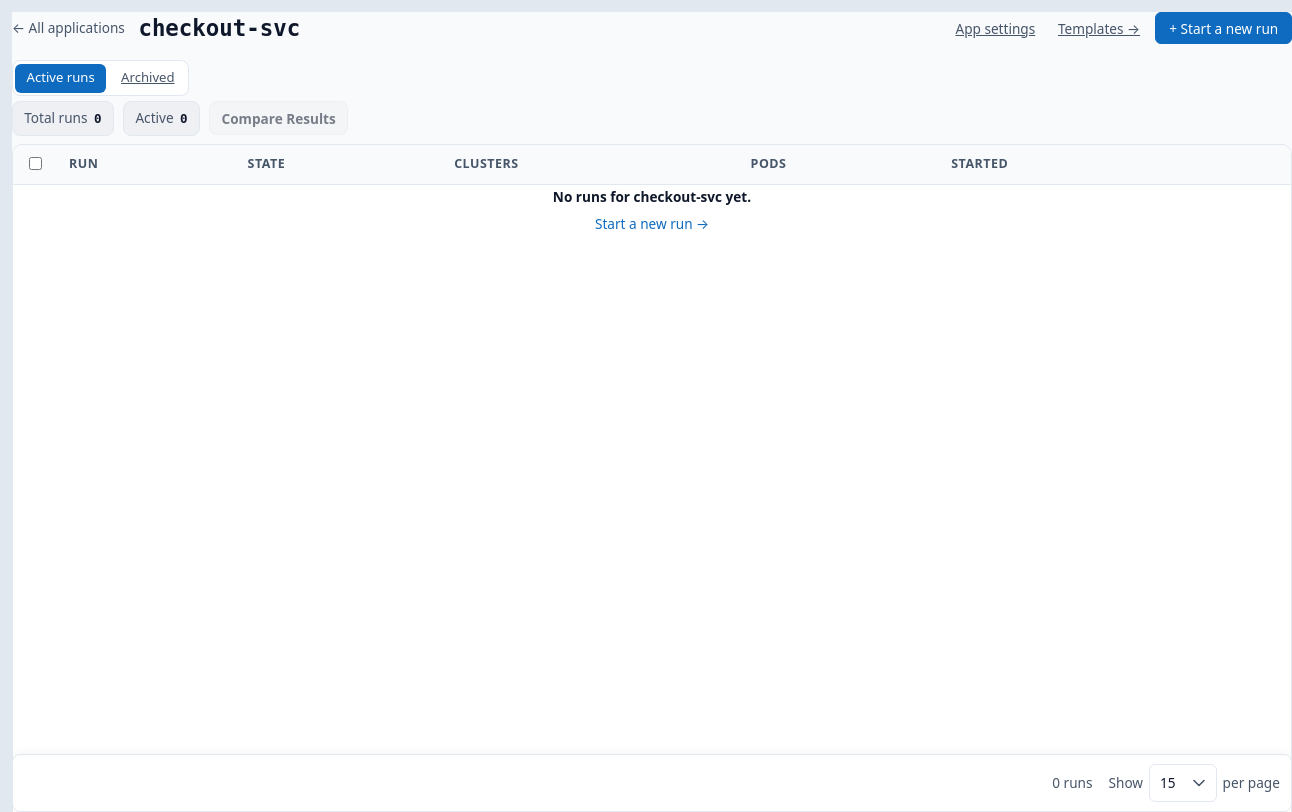
Test: ApplicationDetailPage › the Archived view drops the per-row Archive and says what empty means there
Expected: the text "No runs for checkout-svc yet." is shown, [553,187,751,206]
Click the tab "Archived": point(148, 78) [110,64,186,93]
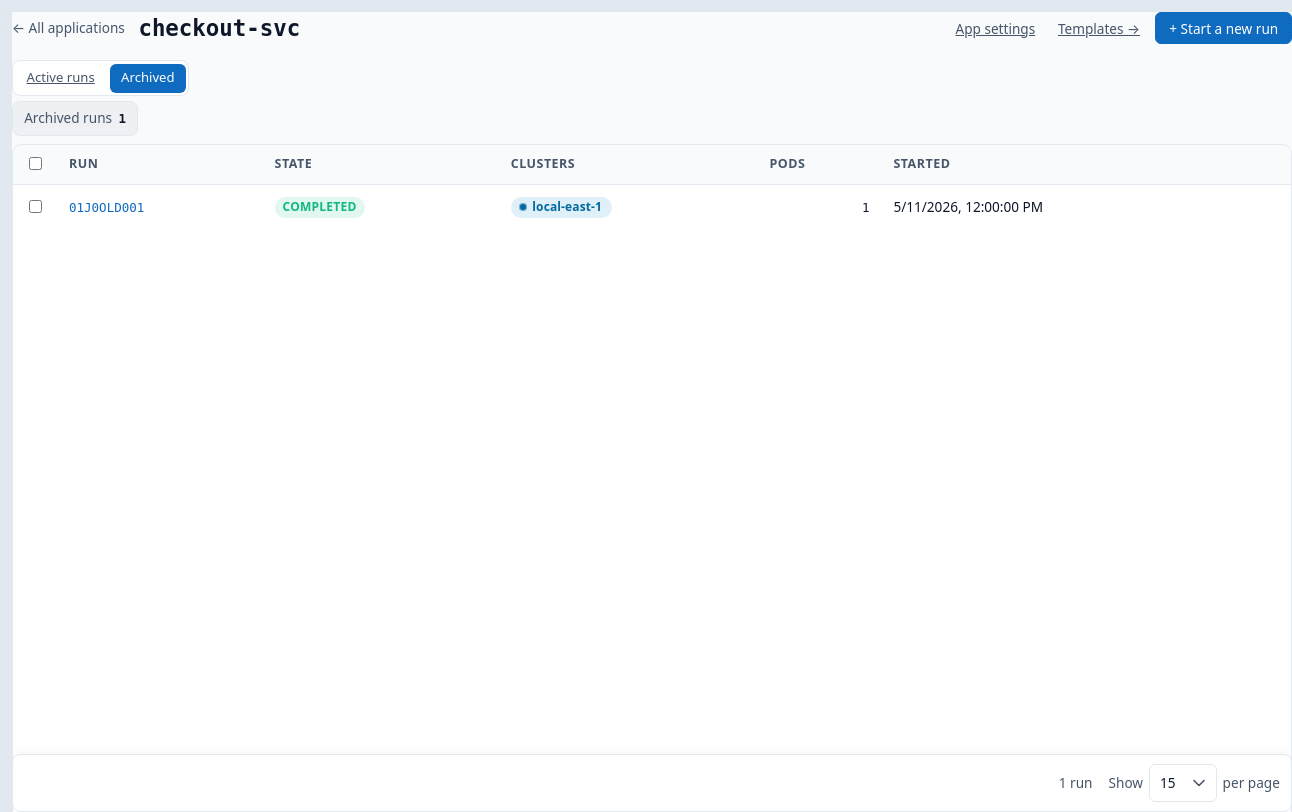
Now the link "01J0OLD001" is shown, box [69,200,144,215]
Click the tab "Active runs": point(61, 78) [15,64,106,93]
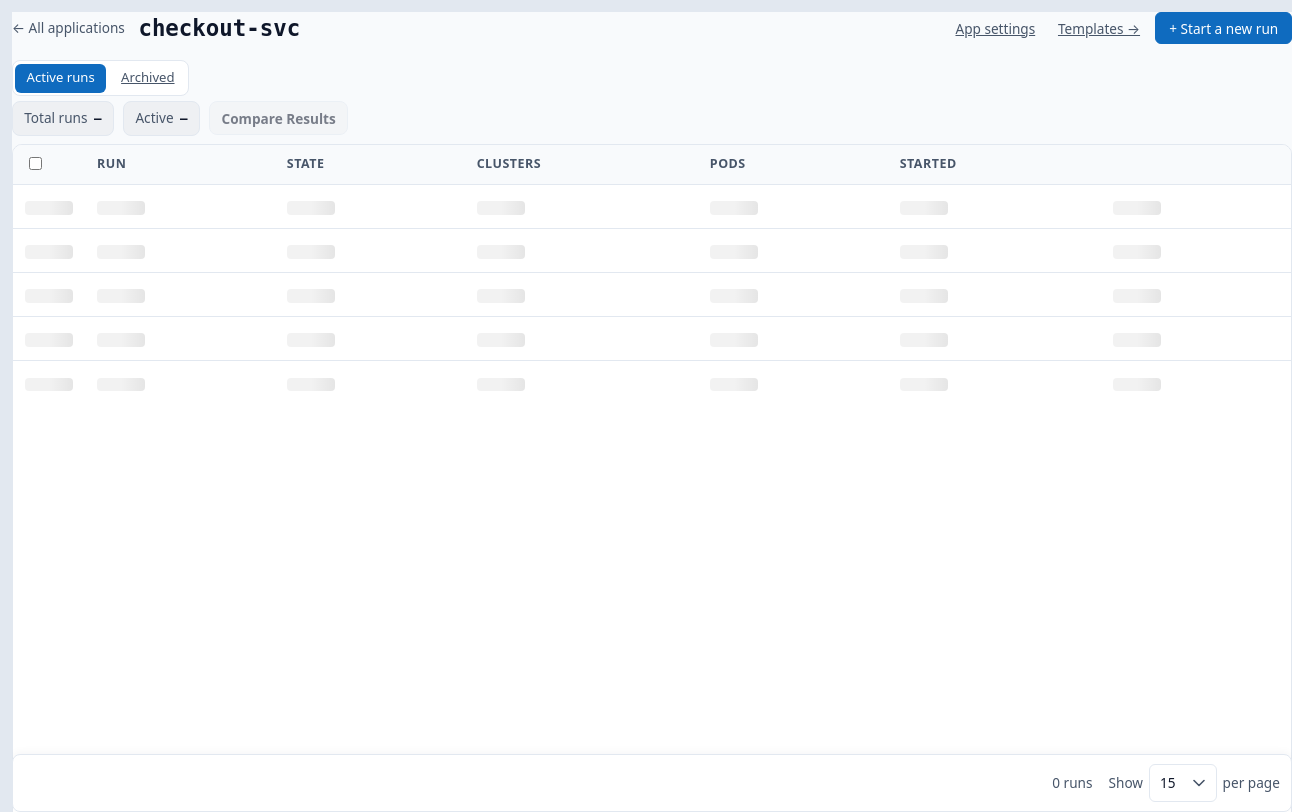
Click the tab "Archived": point(148, 78) [110,64,186,93]
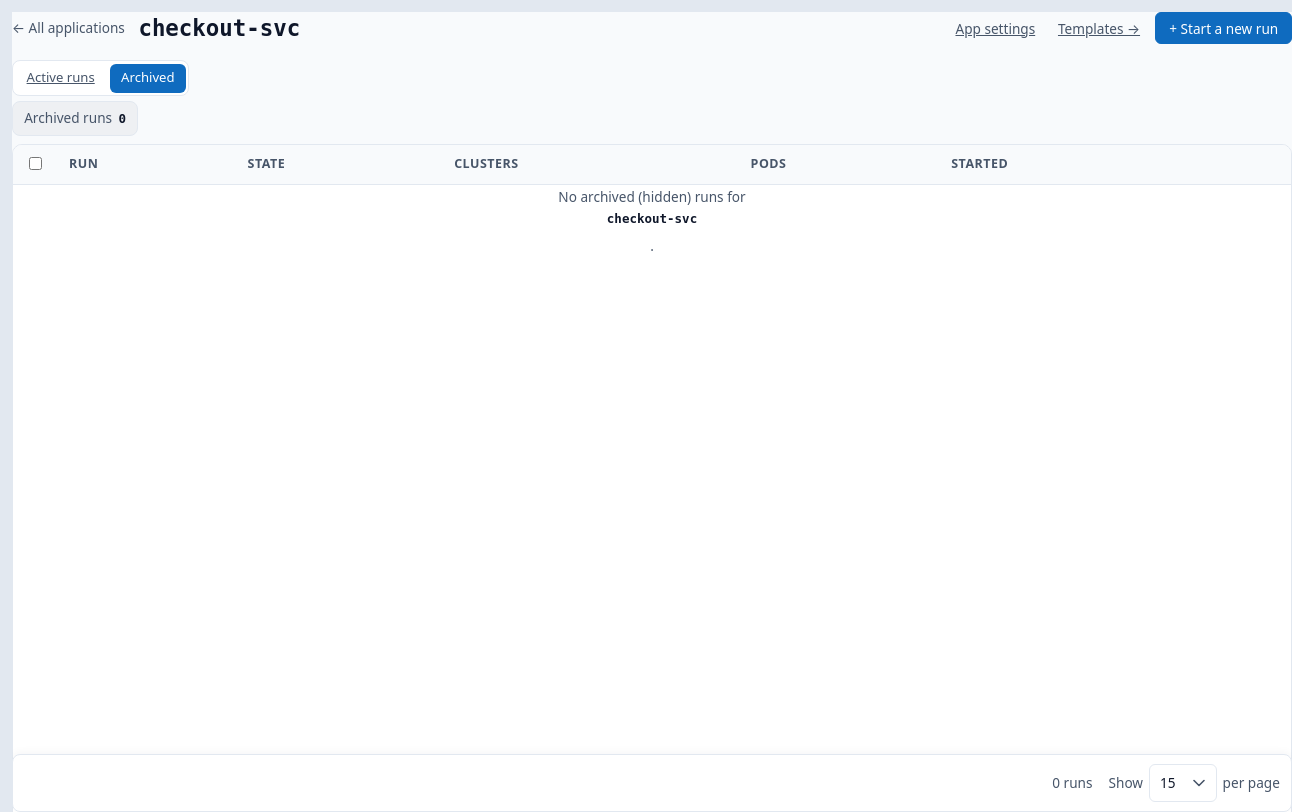
Now the text "No archived (hidden) runs for checkout-svc ." is shown, box [13,185,1291,257]
